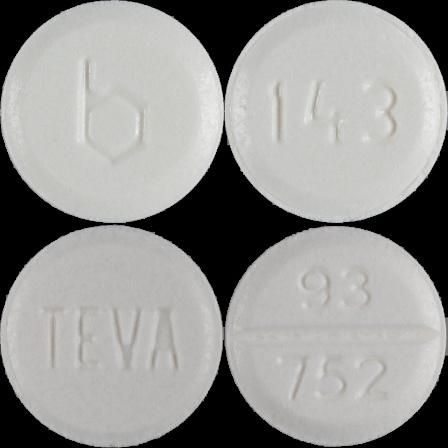66116-436: (0, 0, 224, 224)
